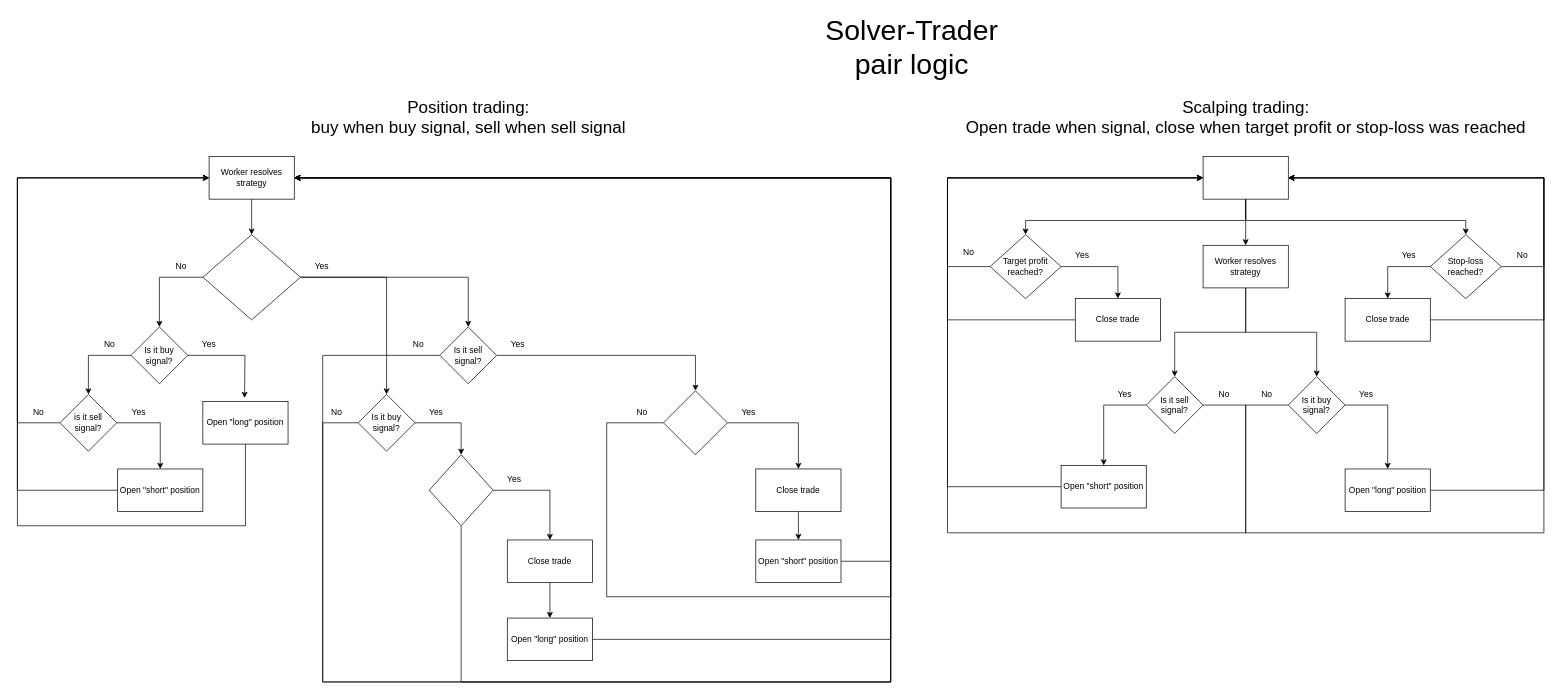
The diagram is 1562 pixels wide and 700 high, and some of its shapes have lost their labels. Here are the shapes that lost their labels. From the top down, the centre of each, then its label:
(1245,177): Got new Candle
(251,277): Trader has opened trade?
(695,422): Is "long" position opened?
(460,490): Is "short" position opened?
